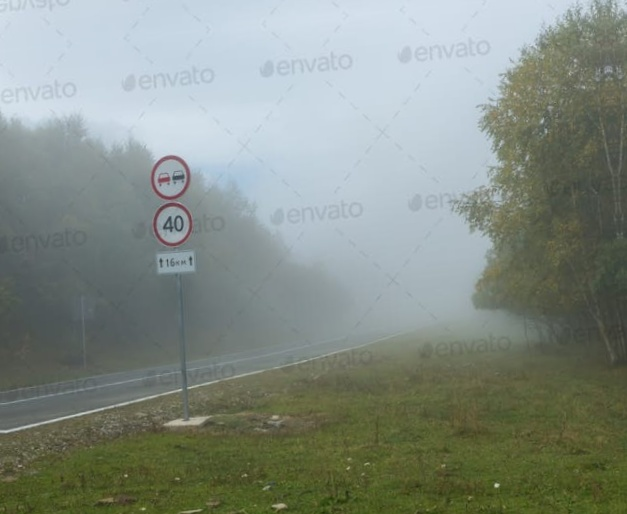No overtake: (141, 149, 198, 200)
Speed limit: (143, 200, 194, 246)
